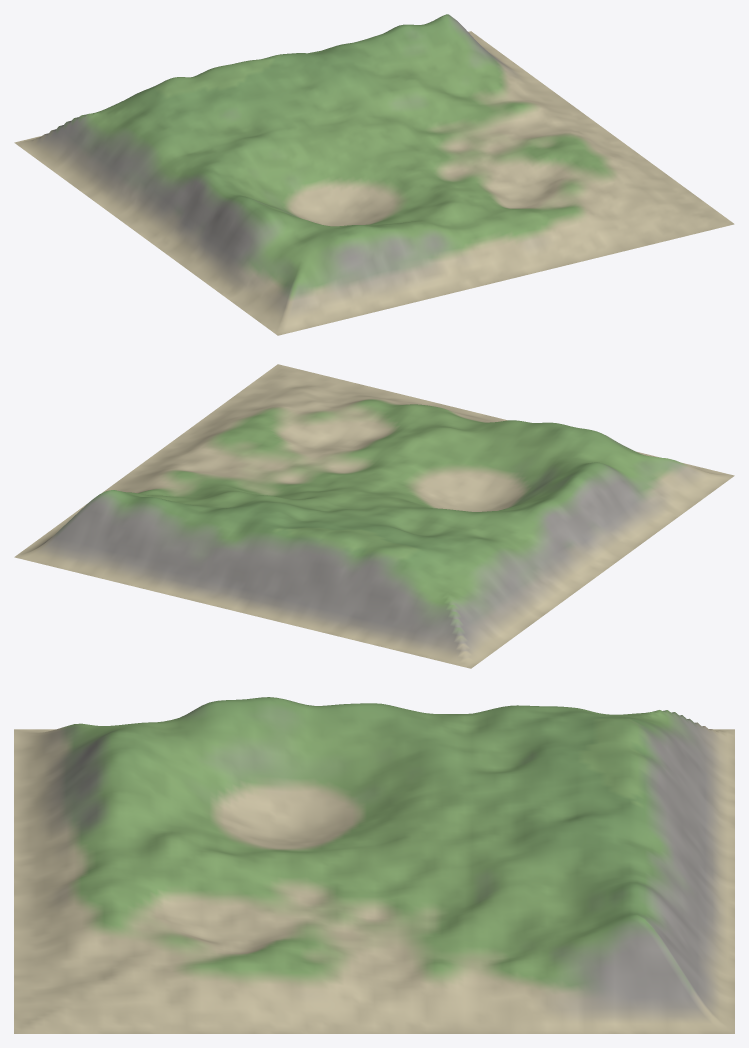
File: terrain-hills.gltf
3 renders of one model, top to bottom at view 1: azimuth 30°, elevation 25°; view 2: azimuth 150°, elevation 25°; view 3: azimuth 270°, elevation 25°, orthographic. The views are drawn at different scales.
Visible parts, largest first — view 1: terrain-hills; view 2: terrain-hills; view 3: terrain-hills.
Boxes of the visible parts, x1,y1,x2,y2 form: terrain-hills: (14,14,734,335); terrain-hills: (14,364,734,668); terrain-hills: (14,697,734,1033).
Bounding box in the file's own units: 60 × 7.79 × 60.
